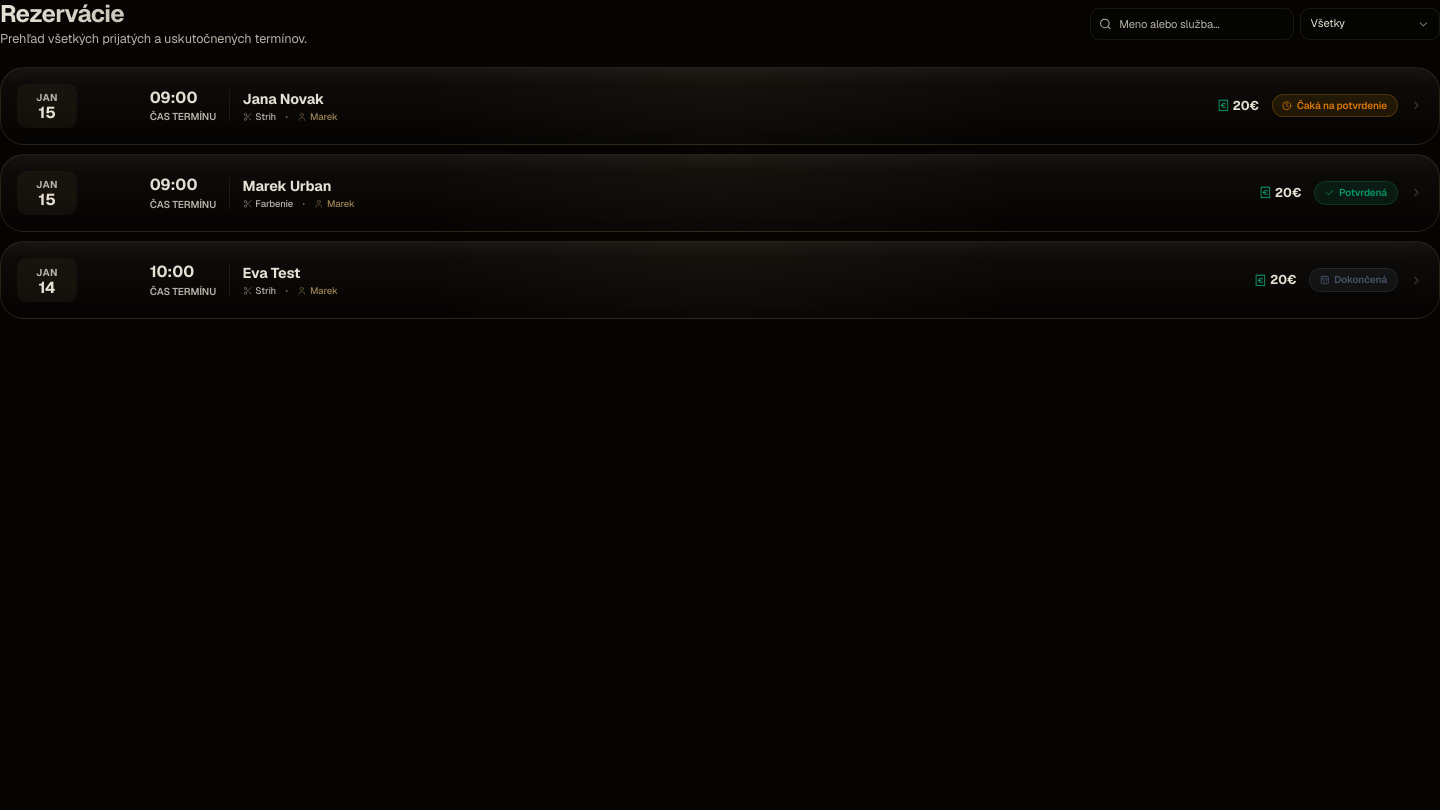
Test: AppointmentsPage › shows confirmed actions for confirmed booking
Click the button "Marek Urban": (47, 193) [0,154,1439,232]
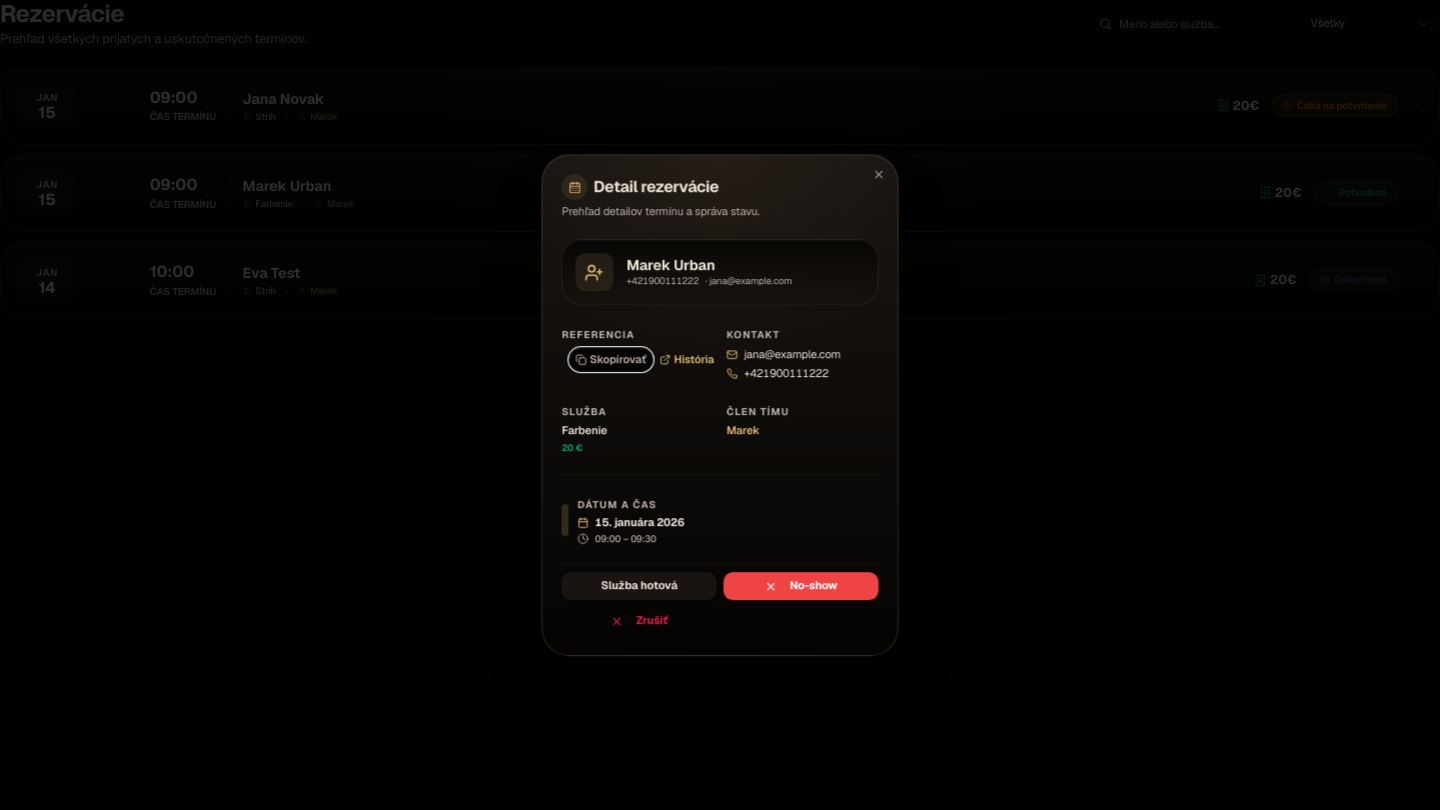
Expected: the button "Služba hotová" is shown, [562,572,717,601]
Expected: the button "No-show" is shown, [723,572,878,601]
Expected: the button "Zrušiť" is shown, [562,607,717,636]
